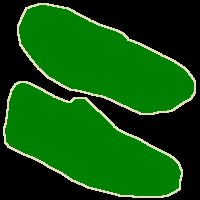shoe: (4, 81, 182, 197), (18, 4, 195, 114)
